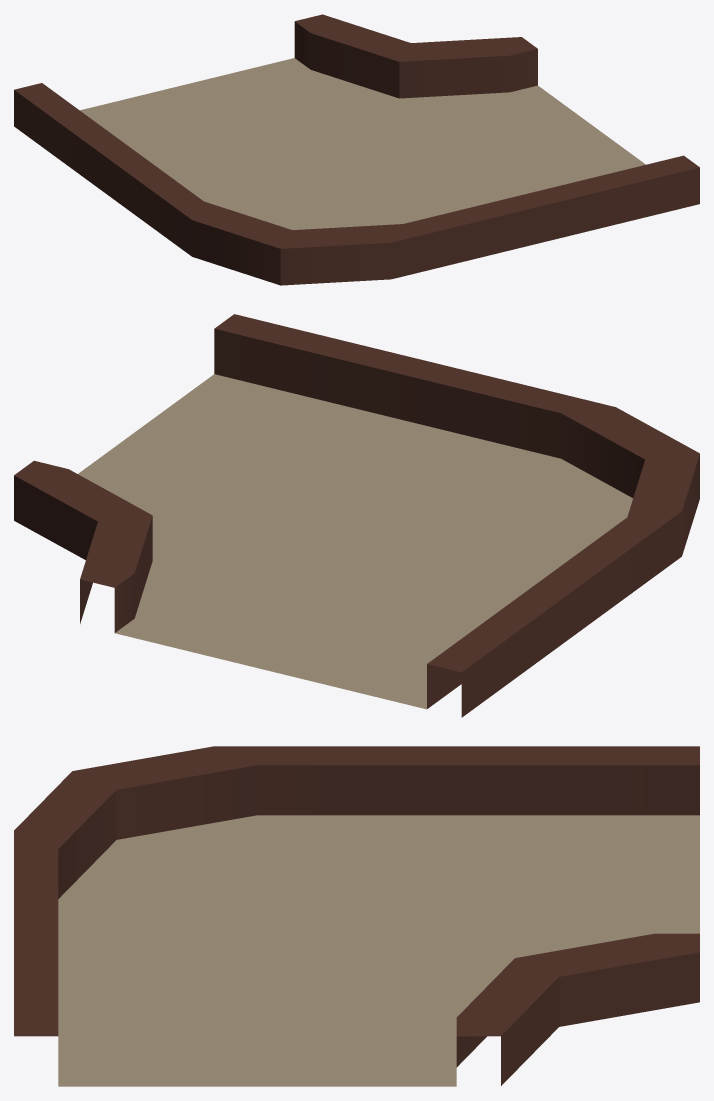
File: M_PathCurved.fbx
3 renders of one model, top to bottom at view 1: azimuth 30°, elevation 25°; view 2: azimuth 150°, elevation 25°; view 3: azimuth 270°, elevation 25°, orthographic. The views are drawn at different scales.
Visible parts, largest first — view 1: pPlane2; view 2: pPlane2; view 3: pPlane2.
Boxes of the visible parts, bbox=[...] form: pPlane2: bbox=[14, 14, 699, 285]; pPlane2: bbox=[14, 314, 699, 717]; pPlane2: bbox=[14, 746, 699, 1086].
Size of the model in its own units: 155 by 12.5 by 155.
